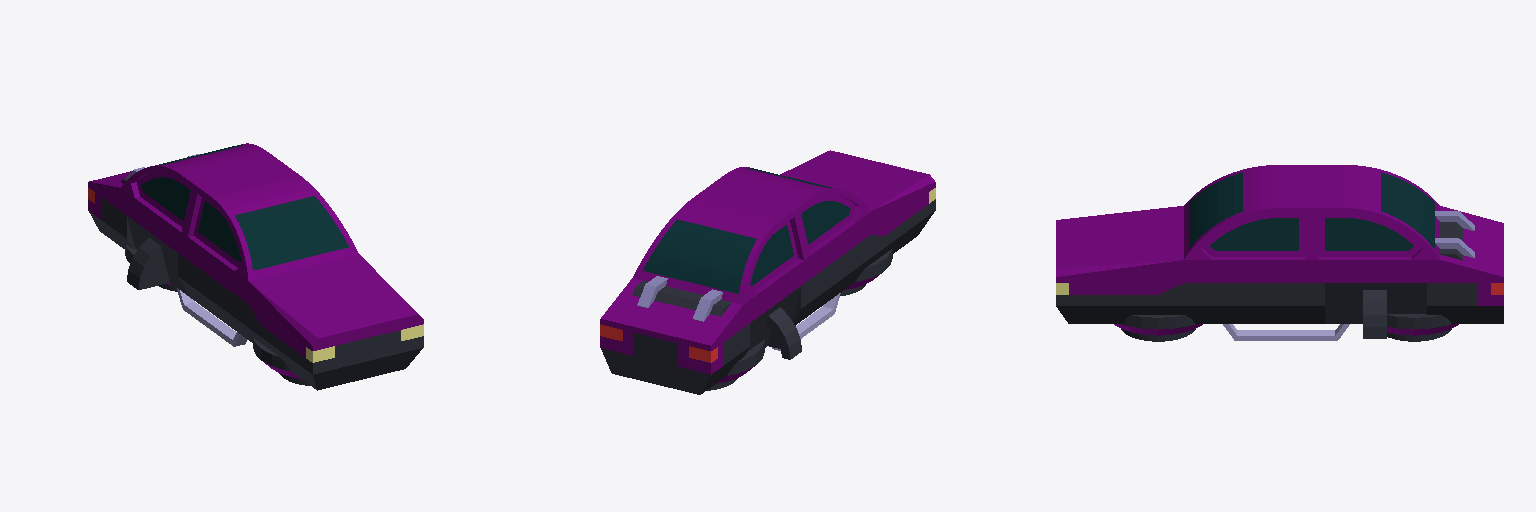
File: car2.obj
3 renders of one model, left to right at view 1: azimuth 30°, elevation 25°; view 2: azimuth 150°, elevation 25°; view 3: azimuth 270°, elevation 25°, orthographic.
Visible parts, largest first — view 1: mergedBlocks; view 2: mergedBlocks; view 3: mergedBlocks.
Part boxes in pixels (bbox=[...]): mergedBlocks: bbox=[88, 143, 423, 390]; mergedBlocks: bbox=[600, 150, 935, 394]; mergedBlocks: bbox=[1056, 165, 1503, 341].
Size of the model in its own units: 1.37 by 1.2 by 3.5.